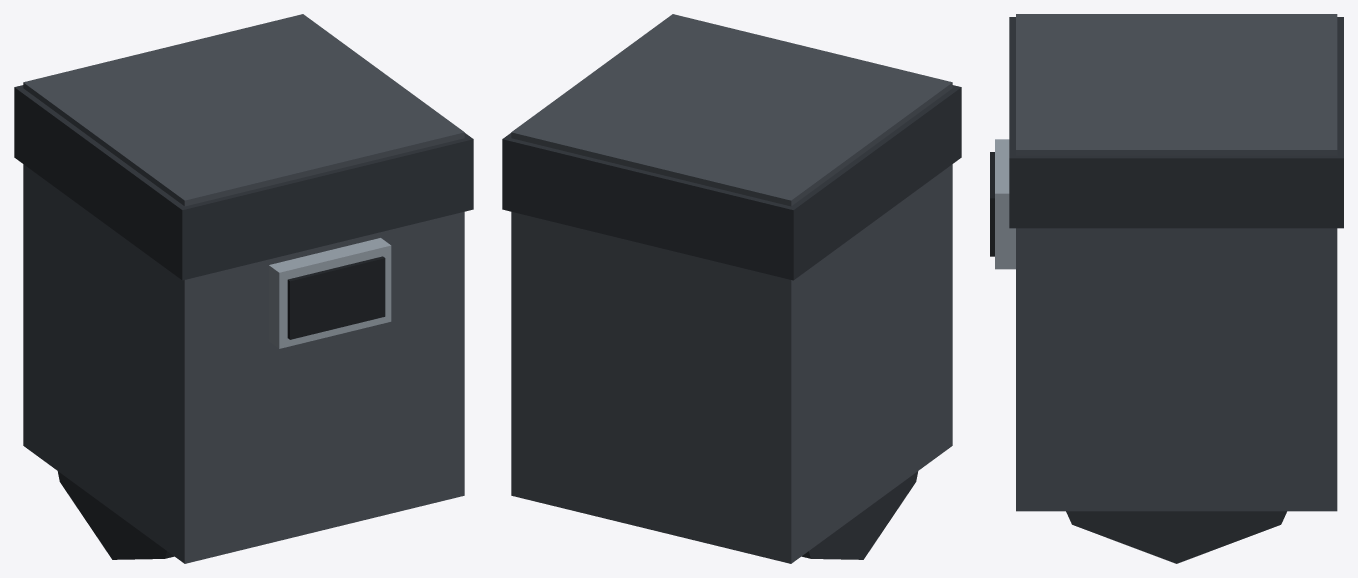
File: pc_recon_upper_arm.fbx
The picture shows the model from 3 angles, left to right: view 1: azimuth 30°, elevation 25°; view 2: azimuth 150°, elevation 25°; view 3: azimuth 270°, elevation 25°; orthographic projection.
Visible parts, largest first — view 1: pc_recon_upper_arm; view 2: pc_recon_upper_arm; view 3: pc_recon_upper_arm.
Part boxes in pixels (bbox=[...]): pc_recon_upper_arm: bbox=[14, 14, 473, 563]; pc_recon_upper_arm: bbox=[502, 14, 961, 563]; pc_recon_upper_arm: bbox=[990, 14, 1343, 563].
Bounding box in the file's own units: 104 × 144 × 110.
